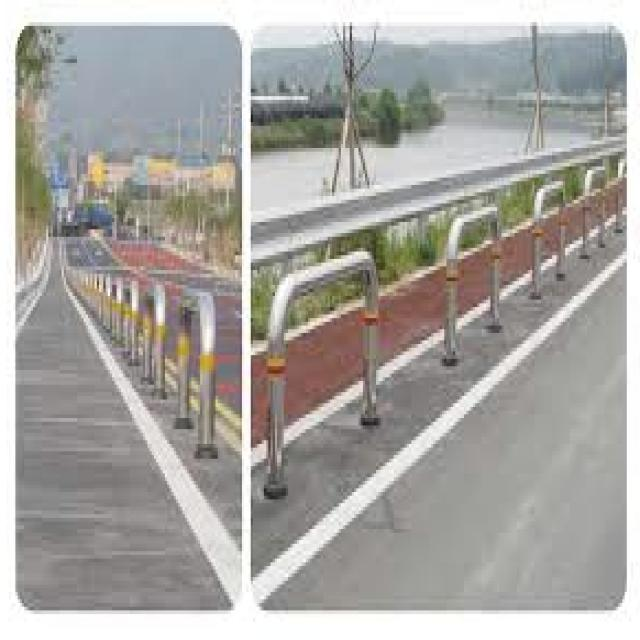bollard: (258, 242, 381, 501), (440, 197, 505, 367), (174, 281, 220, 468), (532, 174, 568, 300), (138, 275, 168, 404), (579, 164, 609, 261), (122, 271, 138, 364), (614, 147, 627, 236), (108, 272, 125, 340), (95, 271, 108, 326)
